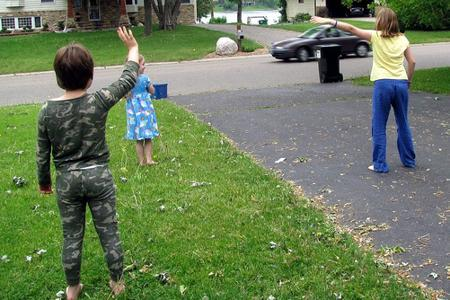person: (37, 28, 141, 300)
